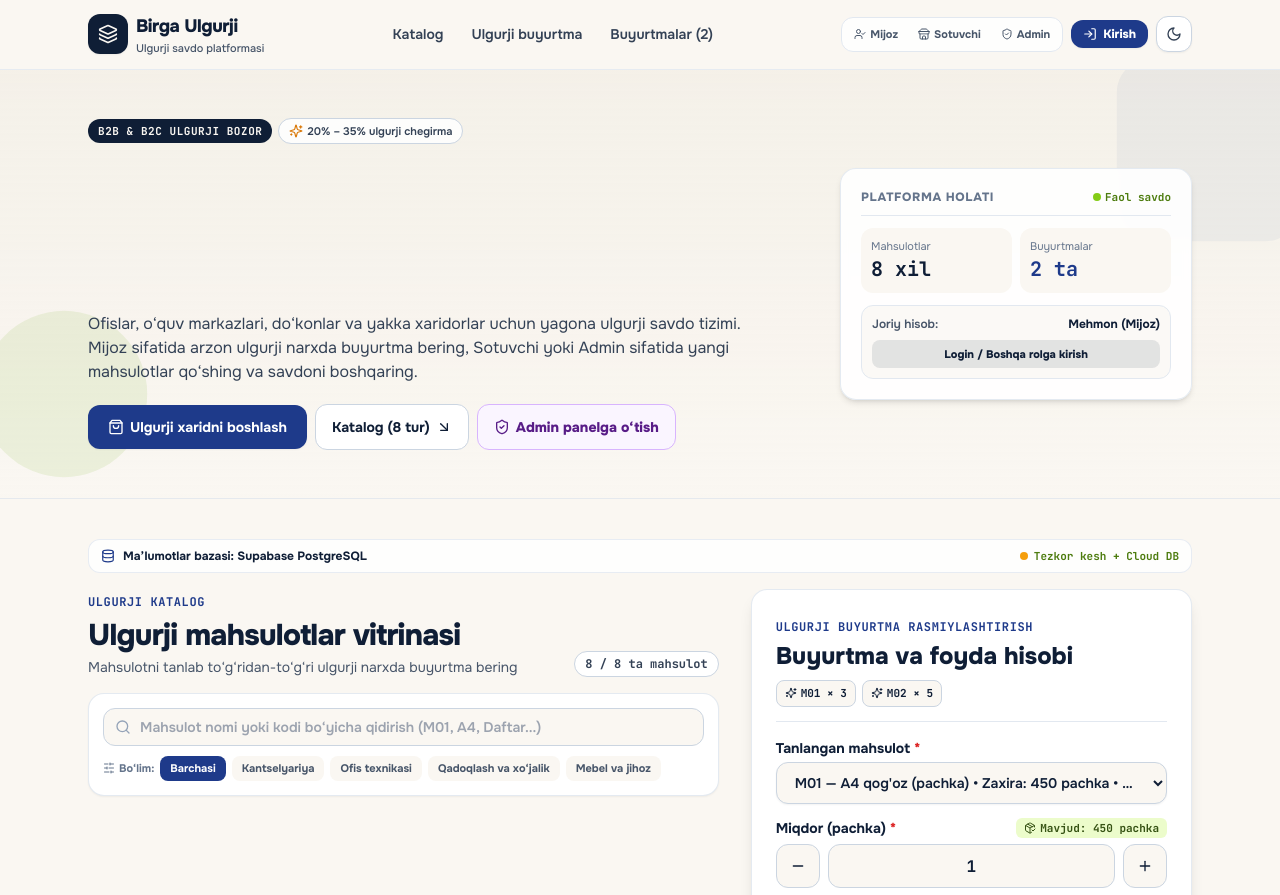
it: App UI, Ombor zaxirasi (Stock) cheklovi va Ulgurji Savdo › M01 × 3 -> ulgurji jami 120 000, tejam 30 000
Click the button with test id "preset-m01-3": (816, 693) [776,680,856,706]
(page scrolled)
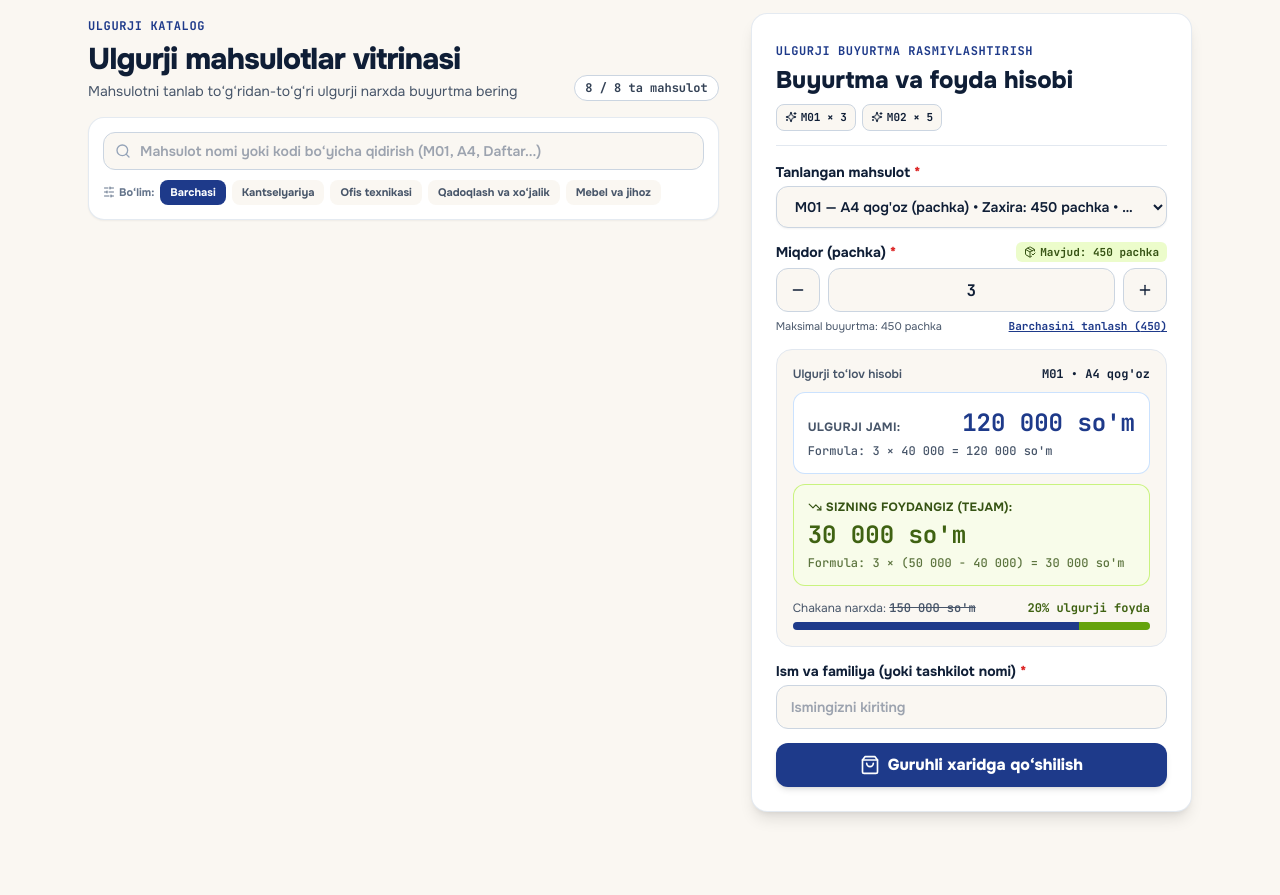
Expected: the text with test id "wholesale-total" reads "120 000 so'm", [962,406,1135,438]
Expected: the text with test id "savings-total" reads "30 000 so'm", [808,518,966,550]
Expected: the text with test id "wholesale-formula" shows "3 × 40 000 = 120 000 so'm", [872,442,1052,458]
